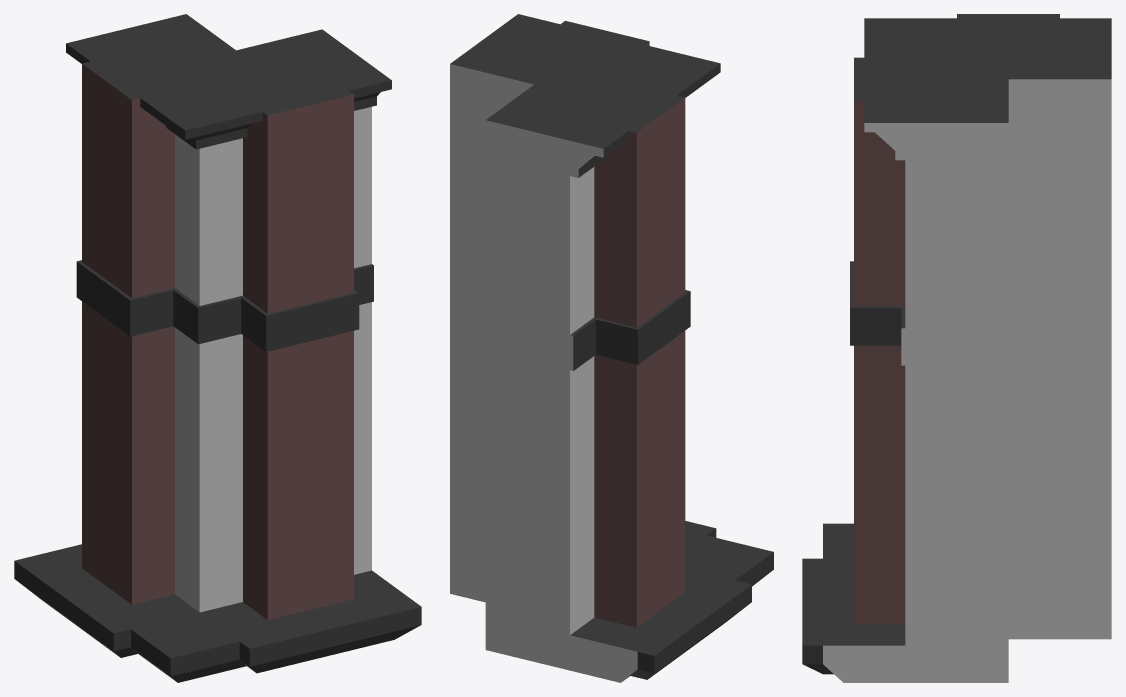
The model's file is WindowsPillar2.fbx.
3 renders of one model, left to right at view 1: azimuth 30°, elevation 25°; view 2: azimuth 150°, elevation 25°; view 3: azimuth 270°, elevation 25°, orthographic. The views are drawn at different scales.
Parts seen in each view (by area): view 1: Tile21; view 2: Tile21; view 3: Tile21.
Part boxes in pixels (box(x1,y1,x2,y2)): Tile21: box(14, 14, 421, 682); Tile21: box(450, 14, 773, 682); Tile21: box(802, 14, 1111, 682).
Bounding box in the file's own units: 1.5 × 3 × 1.5.
